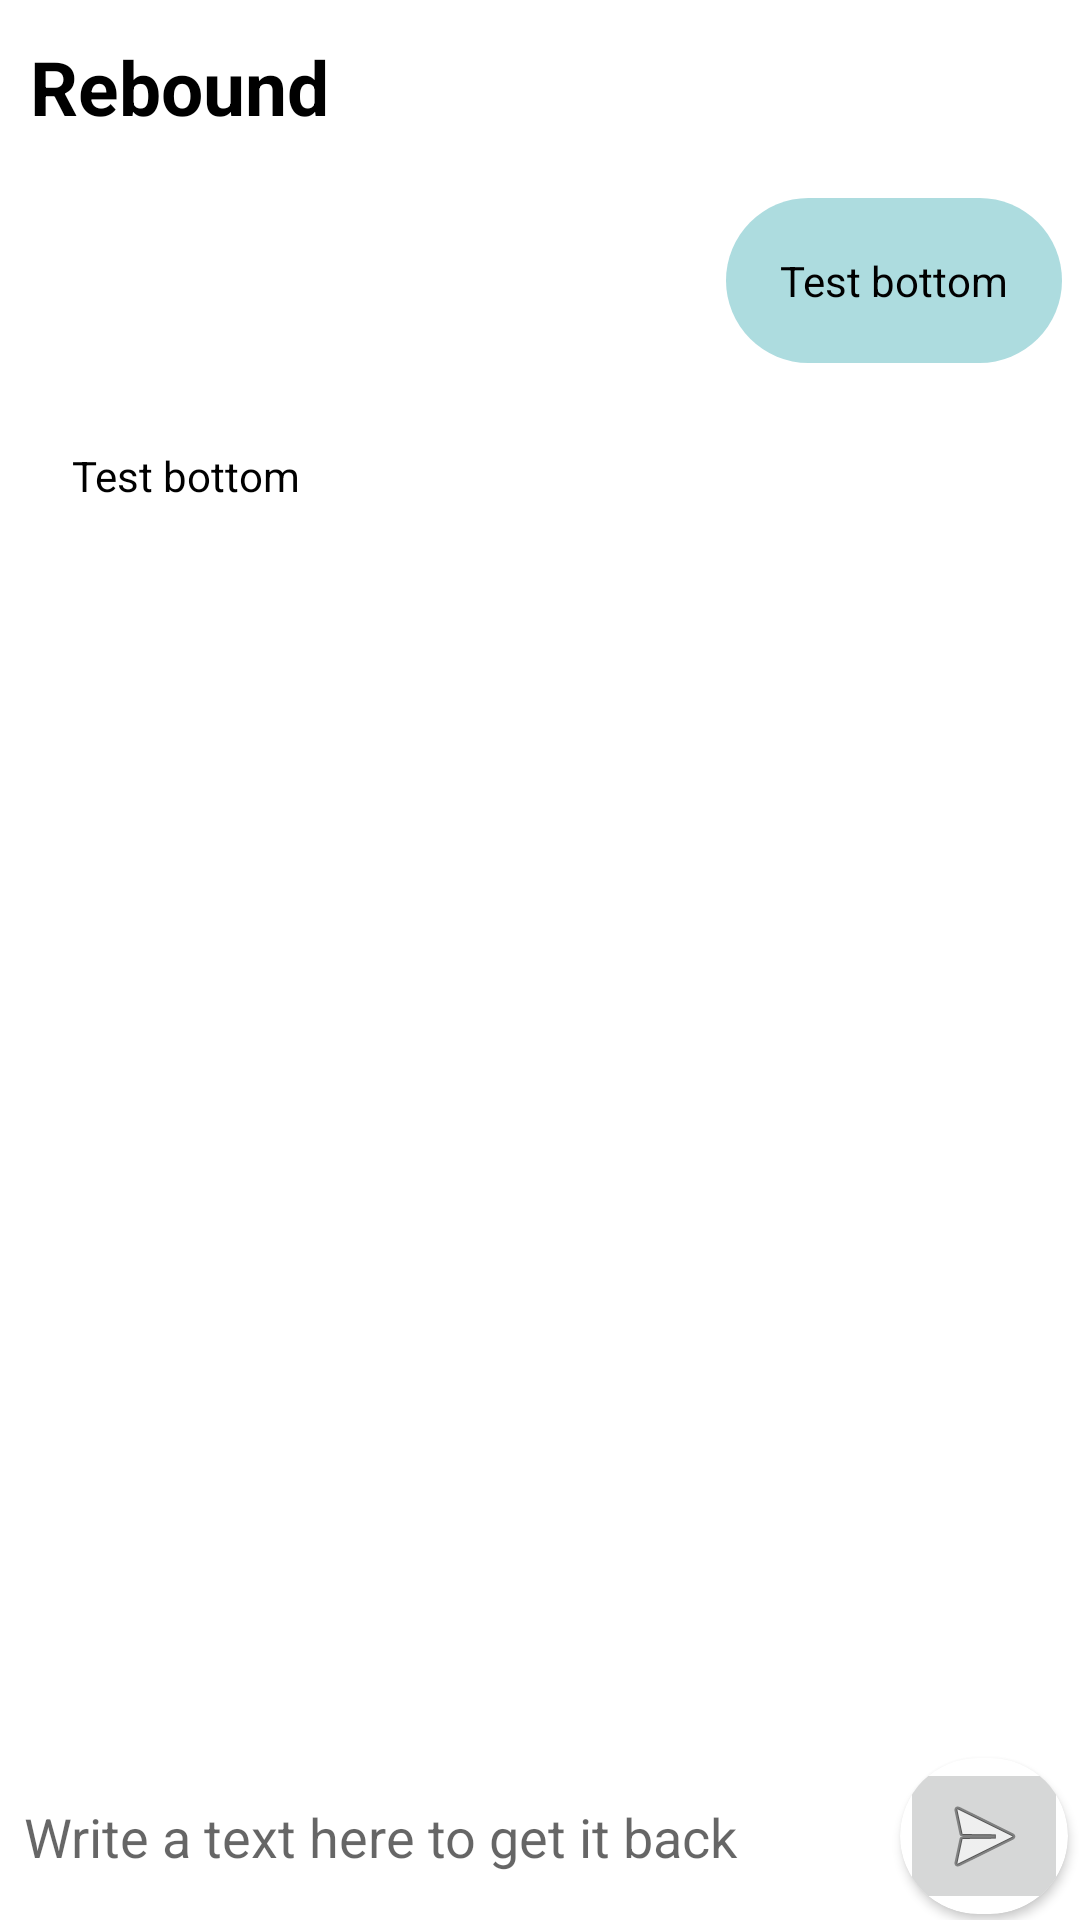

Locate icon controls on the screen. Image size 1080w x 1920h, boxes as (x1, y1, x2, y2).
send: (905, 1776, 1068, 1914)
